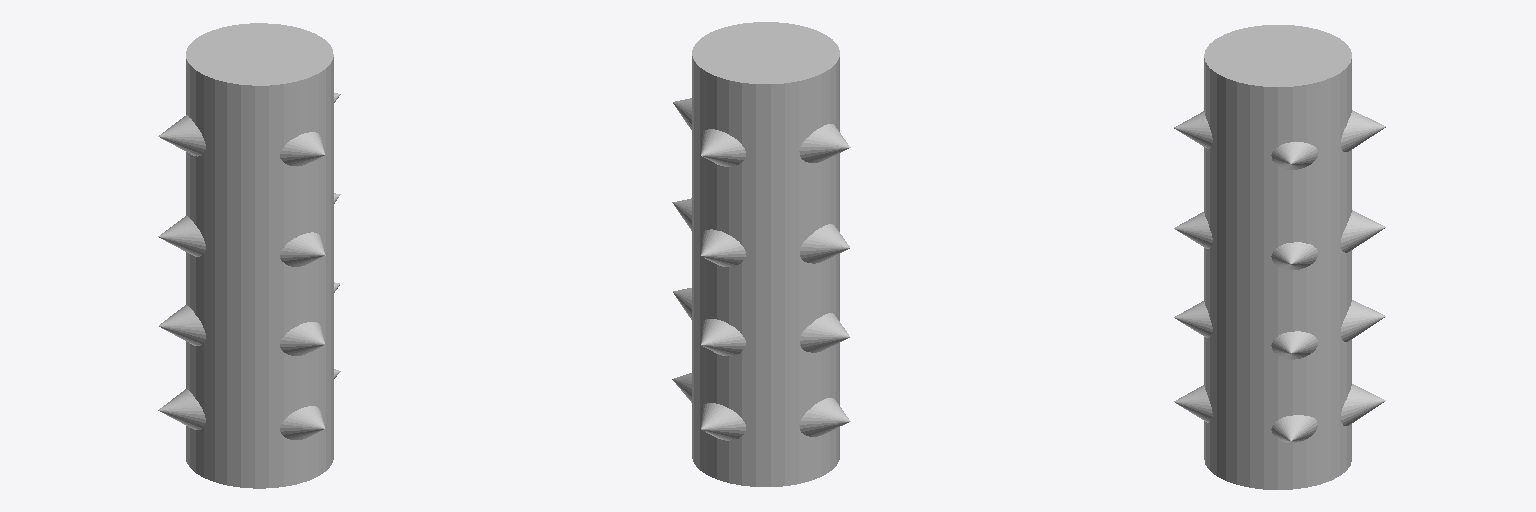
File: tiken.obj
The picture shows the model from 3 angles: view 1: azimuth 30°, elevation 25°; view 2: azimuth 150°, elevation 25°; view 3: azimuth 270°, elevation 25°; orthographic projection.
Parts seen in each view (by area): view 1: Cylinder, Cone.006_Cone.008, Cone.007_Cone.009, Cone.005_Cone.007, Cone.008_Cone.010, Cone.009_Cone.011, Cone.012_Cone.014, Cone.011_Cone.013, Cone.010_Cone.012; view 2: Cylinder, Cone.016_Cone.018, Cone.013_Cone.015, Cone.015_Cone.017, Cone.014_Cone.016, Cone.012_Cone.014, Cone.011_Cone.013, Cone.010_Cone.012, Cone.009_Cone.011; view 3: Cylinder, Cone.002, Cone.003, Cone.004, Cone.001, Cone.015_Cone.017, Cone.013_Cone.015, Cone.014_Cone.016, Cone.016_Cone.018, Cone.005_Cone.007, Cone.006_Cone.008, Cone.007_Cone.009 (+1 smaller).
Part boxes in pixels (x1,y1,x2,y2): Cylinder: (186,23,333,488); Cone.006_Cone.008: (280,232,325,266); Cone.007_Cone.009: (280,322,324,355); Cone.005_Cone.007: (280,132,324,166); Cone.008_Cone.010: (280,406,324,439); Cone.009_Cone.011: (158,115,205,156); Cone.012_Cone.014: (158,389,205,429); Cone.011_Cone.013: (159,305,205,345); Cone.010_Cone.012: (158,216,205,256); Cylinder: (692,22,839,486); Cone.016_Cone.018: (701,129,745,166); Cone.013_Cone.015: (701,403,745,440); Cone.015_Cone.017: (701,229,745,266); Cone.014_Cone.016: (701,319,745,355); Cone.012_Cone.014: (799,398,850,436); Cone.011_Cone.013: (800,313,849,352); Cone.010_Cone.012: (799,224,849,263); Cone.009_Cone.011: (799,124,850,162); Cylinder: (1204,25,1351,489); Cone.002: (1271,331,1317,359); Cone.003: (1271,242,1317,269); Cone.004: (1271,142,1317,169); Cone.001: (1271,415,1317,442); Cone.015_Cone.017: (1341,210,1385,252); Cone.013_Cone.015: (1341,384,1385,425); Cone.014_Cone.016: (1341,300,1385,341); Cone.016_Cone.018: (1341,110,1385,151); Cone.005_Cone.007: (1174,111,1212,148); Cone.006_Cone.008: (1174,212,1212,248); Cone.007_Cone.009: (1174,301,1212,337).
Size of the model in its own units: 2.82 by 6 by 2.88.